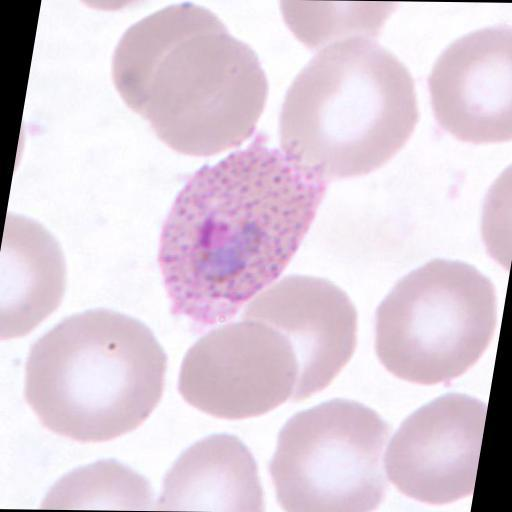Infected: (156, 129, 322, 331)
Uninfected: (281, 32, 416, 171), (26, 308, 161, 438), (374, 259, 497, 383), (269, 400, 396, 512), (153, 29, 269, 150), (240, 273, 352, 398), (110, 3, 225, 115), (176, 320, 293, 417), (390, 392, 476, 504), (433, 20, 512, 138)
